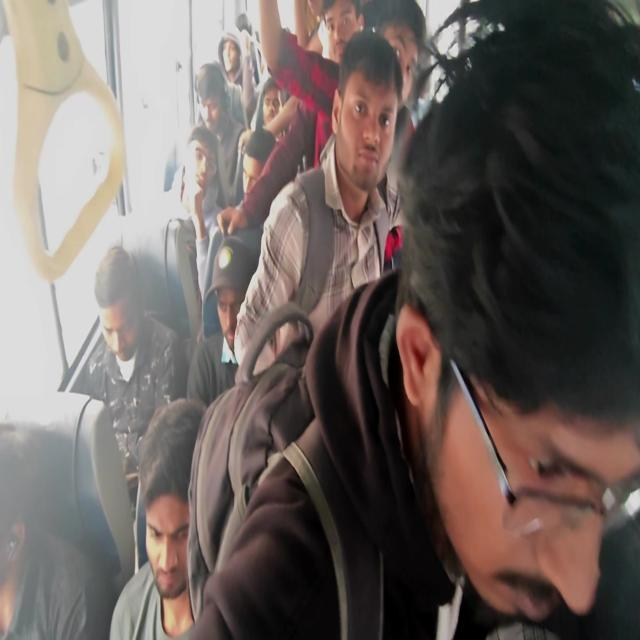person: (184, 3, 639, 638), (233, 27, 406, 381), (222, 1, 426, 237), (68, 243, 186, 573), (109, 396, 207, 638), (186, 233, 257, 406), (179, 124, 225, 302), (194, 62, 246, 209), (218, 24, 258, 130)
